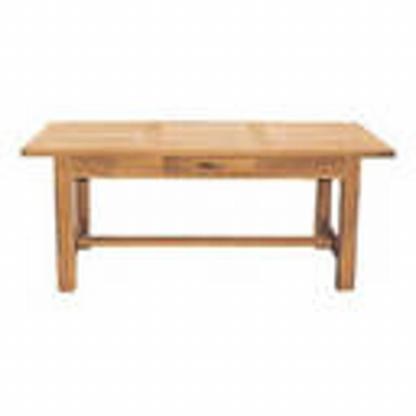Table: (16, 106, 402, 316)
